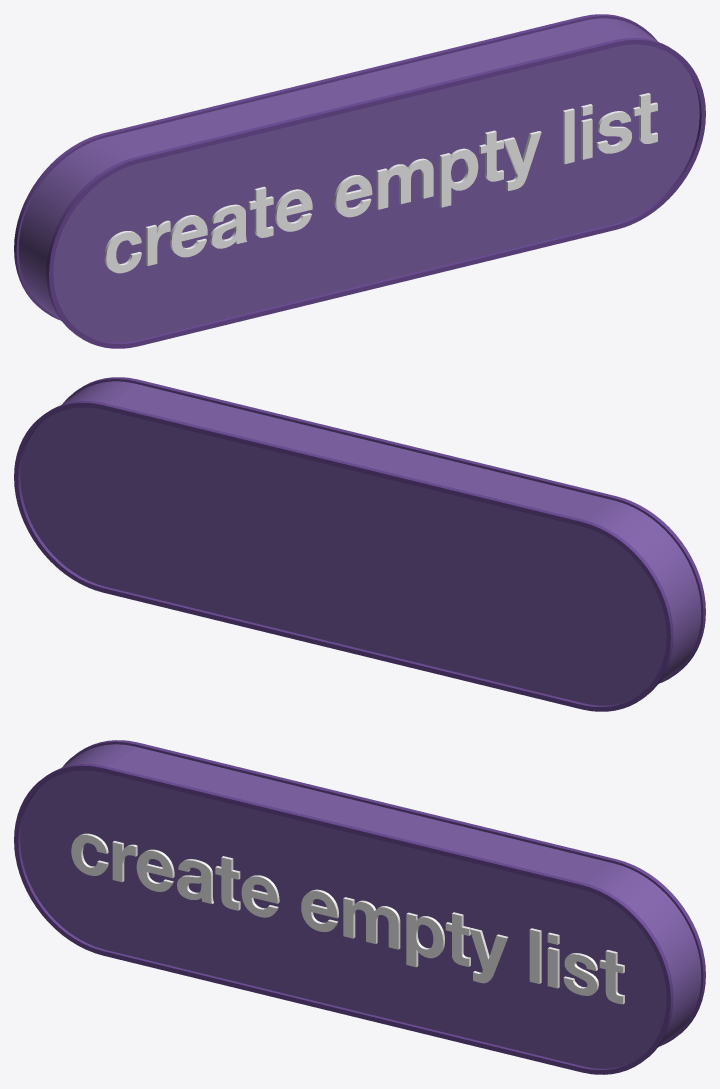
The model's file is lists_create_empty.gltf.
3 views of the same model, one above another, from view 1: azimuth 30°, elevation 25°; view 2: azimuth 150°, elevation 25°; view 3: azimuth 330°, elevation 25° (orthographic).
Parts seen in each view (by area): view 1: Extrude.16, Extrude.15, Extrude.17, Extrude.7, Extrude.6, Extrude.11, Extrude.8, Extrude.9, Extrude.12, Extrude.4, Extrude.1, Extrude.14 (+6 smaller); view 2: Extrude.16, Extrude.17, Extrude.15; view 3: Extrude.16, Extrude.15, Extrude.17, Extrude.7, Extrude.6, Extrude.11, Extrude.9, Extrude.12, Extrude.8, Extrude.4, Extrude.1, Extrude.14 (+6 smaller).
Boxes of the visible parts, x1,y1,x2,y2 form: Extrude.16: (18, 18, 699, 342); Extrude.15: (46, 38, 705, 348); Extrude.17: (14, 14, 656, 319); Extrude.7: (376, 158, 433, 209); Extrude.6: (439, 148, 478, 207); Extrude.11: (210, 204, 246, 248); Extrude.8: (334, 175, 372, 217); Extrude.9: (274, 189, 312, 231); Extrude.12: (170, 215, 207, 257); Extrude.4: (503, 131, 541, 190); Extrude.1: (596, 111, 631, 153); Extrude.14: (104, 231, 141, 273); Extrude.16: (20, 381, 701, 705); Extrude.17: (14, 401, 673, 711); Extrude.15: (63, 377, 705, 682); Extrude.16: (20, 744, 701, 1068); Extrude.15: (14, 764, 673, 1074); Extrude.17: (63, 740, 705, 1046); Extrude.7: (343, 897, 400, 949); Extrude.6: (406, 912, 444, 967); Extrude.11: (177, 859, 213, 903); Extrude.9: (241, 875, 279, 917); Extrude.12: (136, 849, 174, 891); Extrude.8: (301, 889, 338, 931); Extrude.4: (469, 928, 508, 983); Extrude.1: (563, 953, 598, 995); Extrude.14: (71, 833, 108, 875).
Size of the model in its own units: 0.7311 by 0.1994 by 0.0675.
